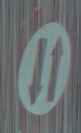Two way: (11, 14, 67, 105)
